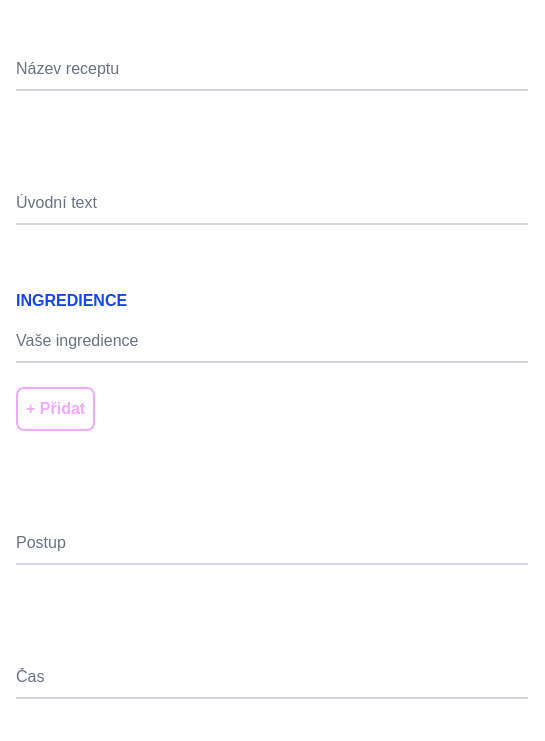
Scenario: AddRecipeForm › does not submit the form if there are not any ingredients
The image size is (545, 741).
Type "Pizza" into the field with placeholder "Název receptu".
click(272, 70); type("Pizza")  # box [16,49,528,91]
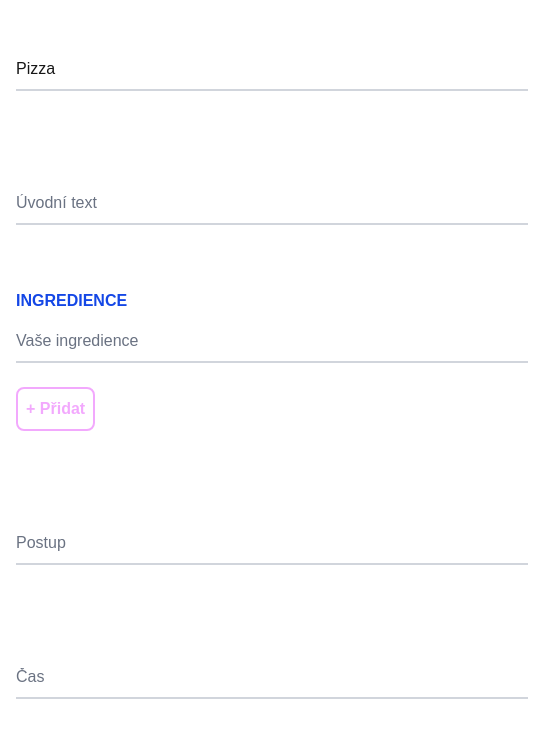
Type "Cheesy" into the field with placeholder "Úvodní text".
click(272, 204); type("Cheesy")  # box [16,183,528,225]
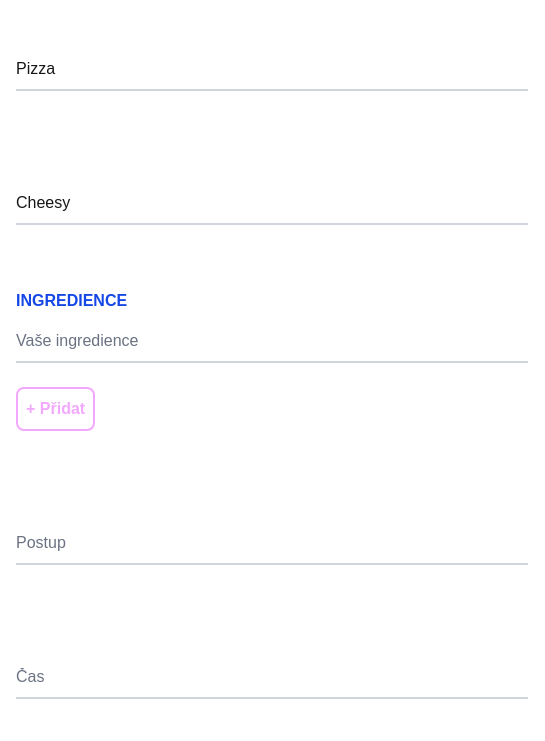
Type "Put in the oven" into the field with placeholder "Postup".
click(272, 544); type("Put in the oven")  # box [16,523,528,565]
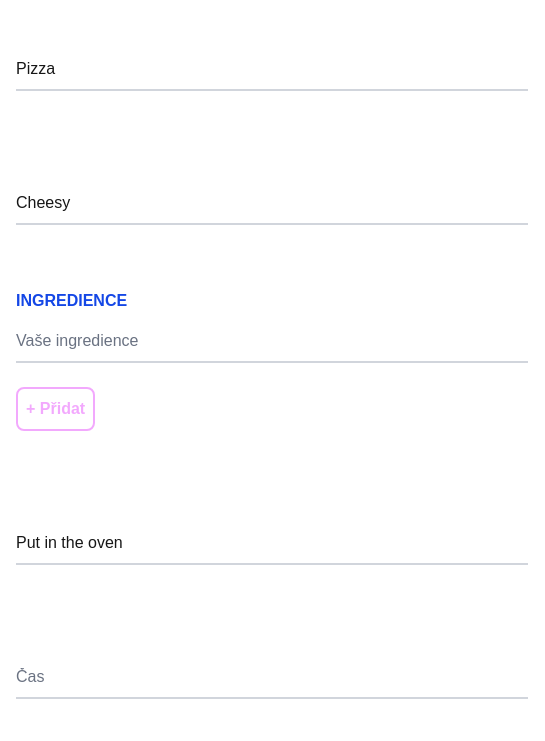
Type "30" into the number field with placeholder "Čas".
click(272, 678); type("30")  # box [16,657,528,699]
(page scrolled)
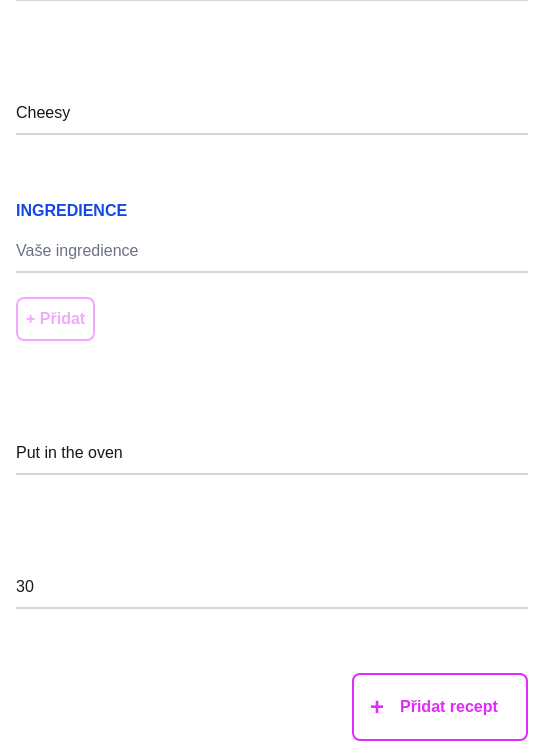
Click the button with test id "submit-button".
click(440, 707)  # box [352,673,528,740]
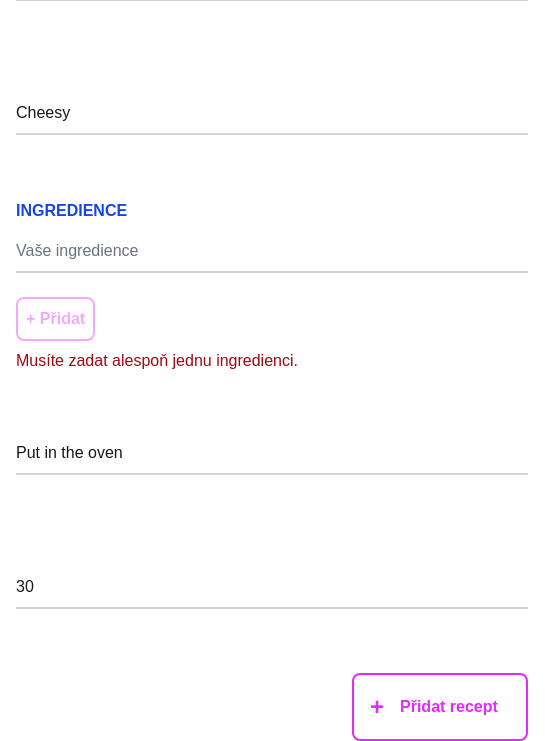
Check: the text "Musíte zadat alespoň jednu ingredienci." is shown, box [16,349,298,373]
